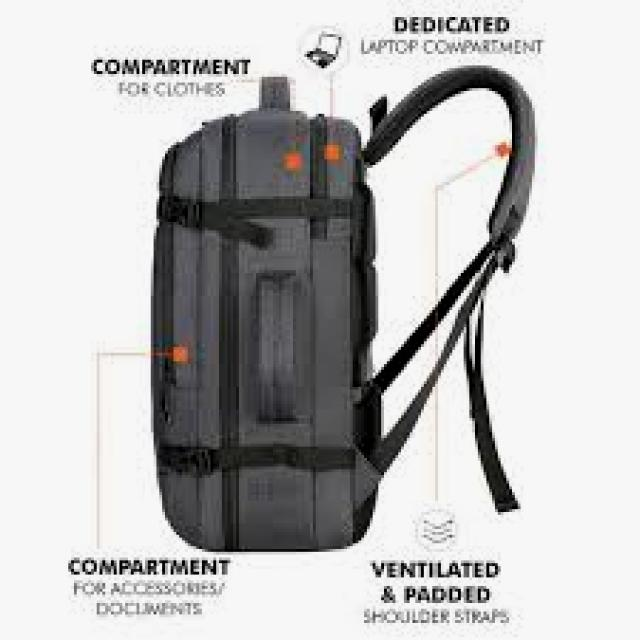backpack: (149, 64, 536, 553)
